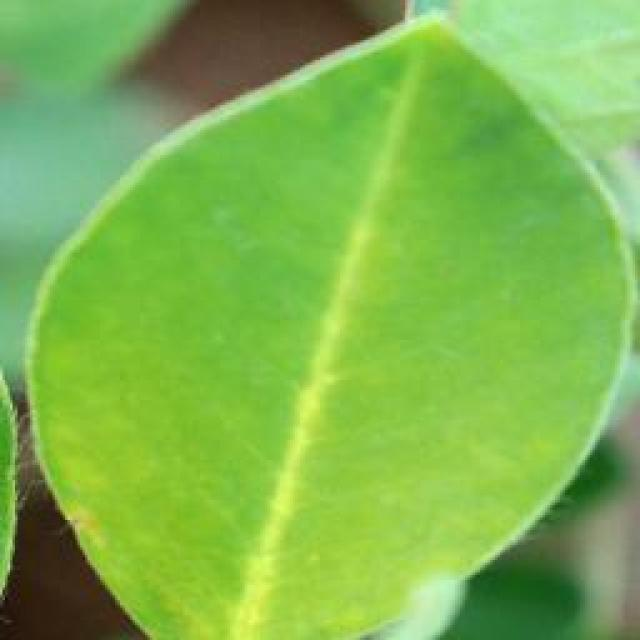Yellow_and_black_sigatoka: (25, 14, 640, 640)
